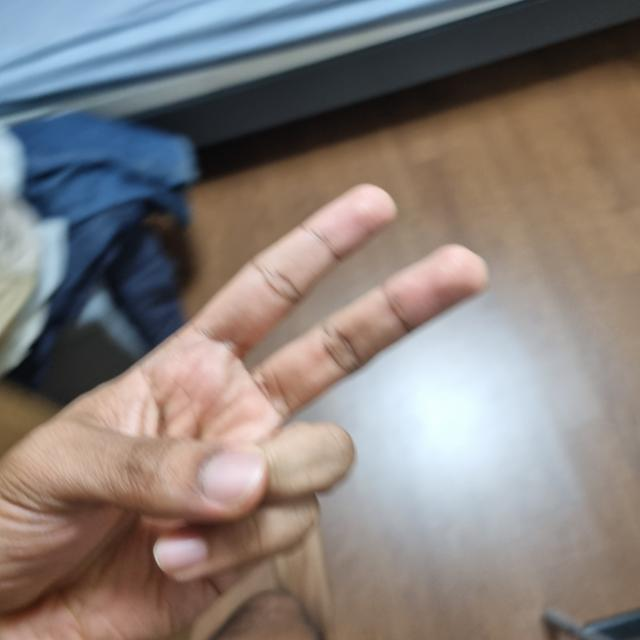Scissors: (0, 189, 479, 639)
